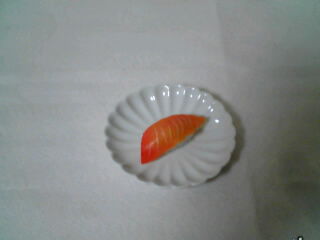002_classes: (131, 110, 213, 168)
